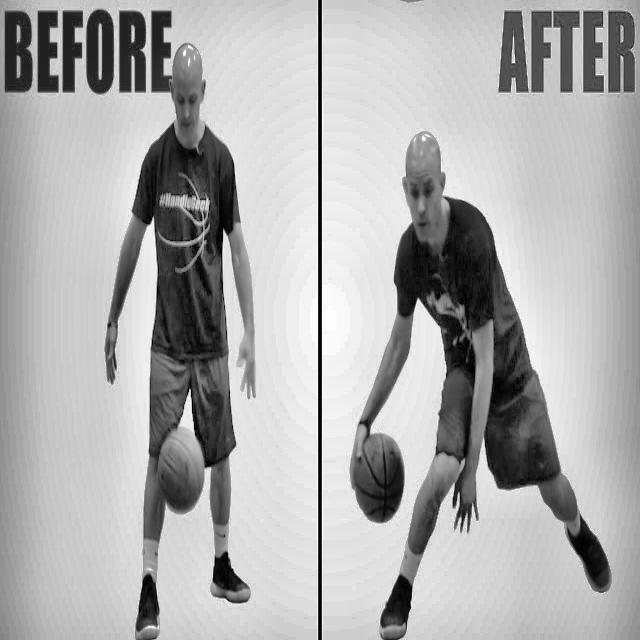Basketball: (352, 433, 405, 523), (158, 427, 204, 514)
